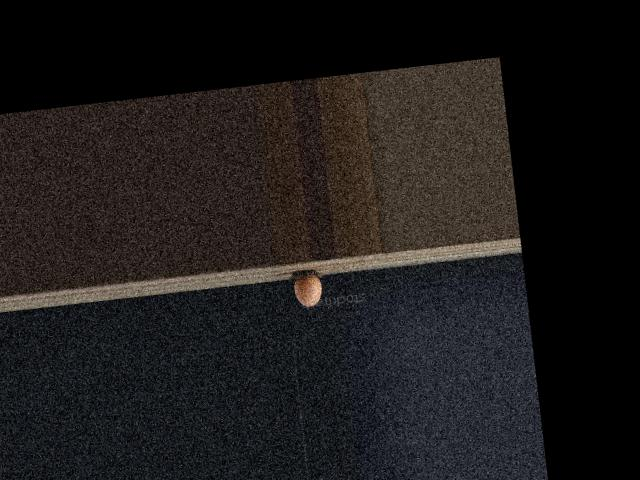egg: (292, 275, 322, 307)
